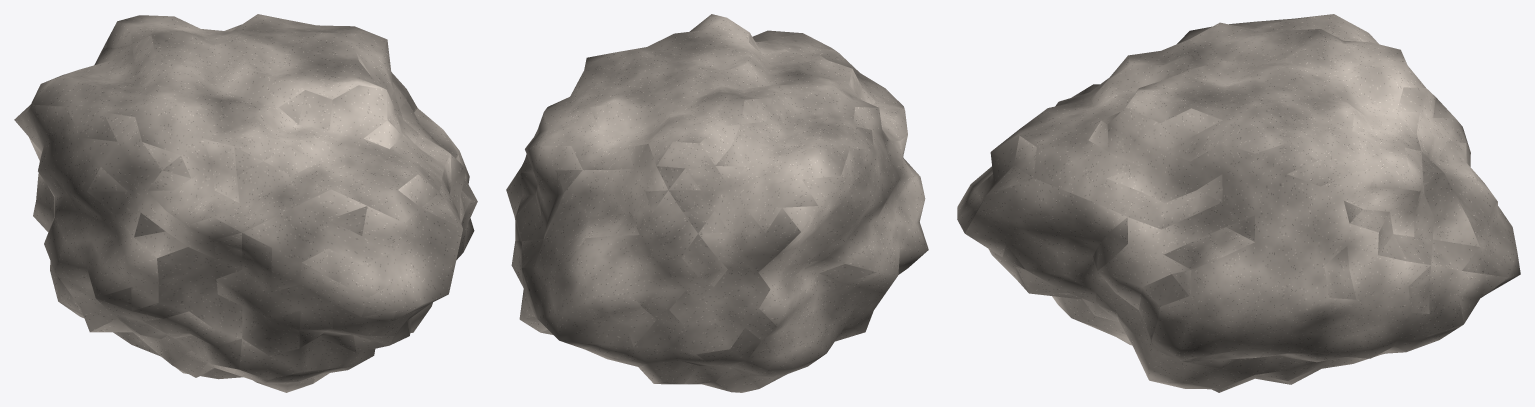
The model's file is debris_rock_a.obj.
The picture shows the model from 3 angles, left to right: view 1: azimuth 30°, elevation 25°; view 2: azimuth 150°, elevation 25°; view 3: azimuth 270°, elevation 25°; orthographic projection. The views are drawn at different scales.
Visible parts, largest first — view 1: debris_rock_a; view 2: debris_rock_a; view 3: debris_rock_a.
Boxes of the visible parts, x1,y1,x2,y2 form: debris_rock_a: (14, 14, 477, 392); debris_rock_a: (506, 14, 928, 392); debris_rock_a: (957, 14, 1520, 392).
Bounding box in the file's own units: 1.98 × 1.57 × 2.5.
Materials: 1 (1 with a texture image).
